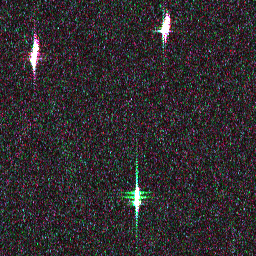ship: (159, 14, 173, 37), (29, 40, 40, 69), (132, 186, 141, 208)
